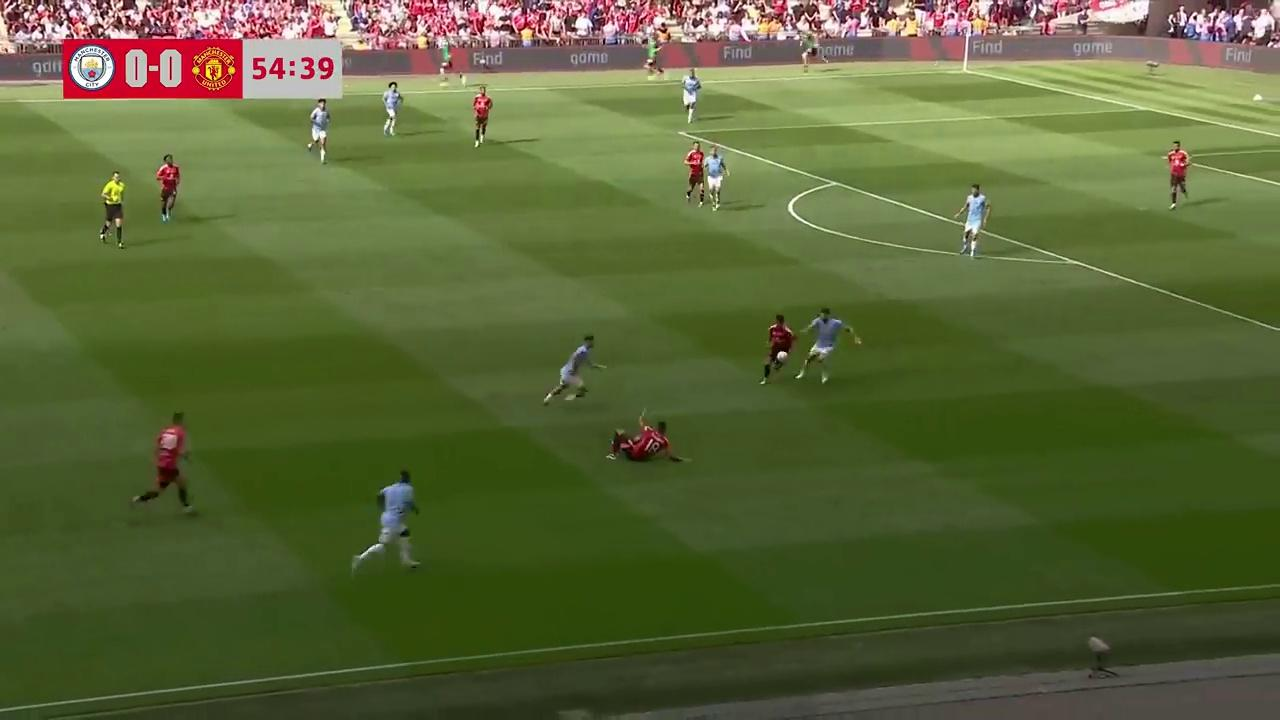player: (357, 469, 421, 570), (131, 413, 195, 514), (796, 308, 860, 385), (541, 334, 605, 406), (606, 415, 684, 465), (759, 313, 797, 385), (957, 183, 989, 257), (1163, 140, 1191, 210), (155, 153, 180, 223), (703, 147, 729, 210), (682, 141, 706, 206), (308, 98, 331, 162), (472, 86, 492, 147), (382, 82, 403, 136), (682, 70, 701, 123)
referee: (99, 170, 125, 247)
